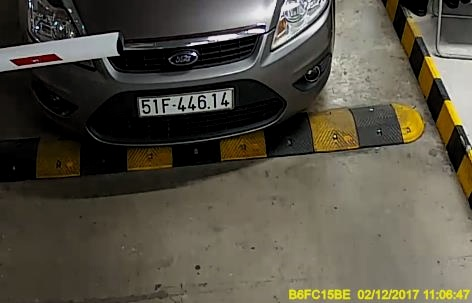plate: (131, 88, 240, 118)
